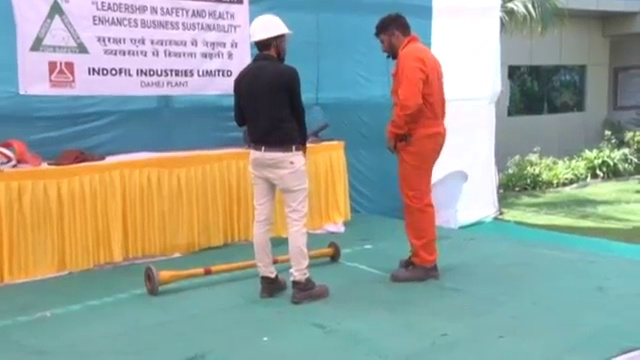helmet: (249, 14, 294, 43)
helmet_off: (373, 14, 413, 62)
helmet_on: (246, 13, 295, 61)
person: (231, 14, 331, 303), (369, 12, 444, 280)
